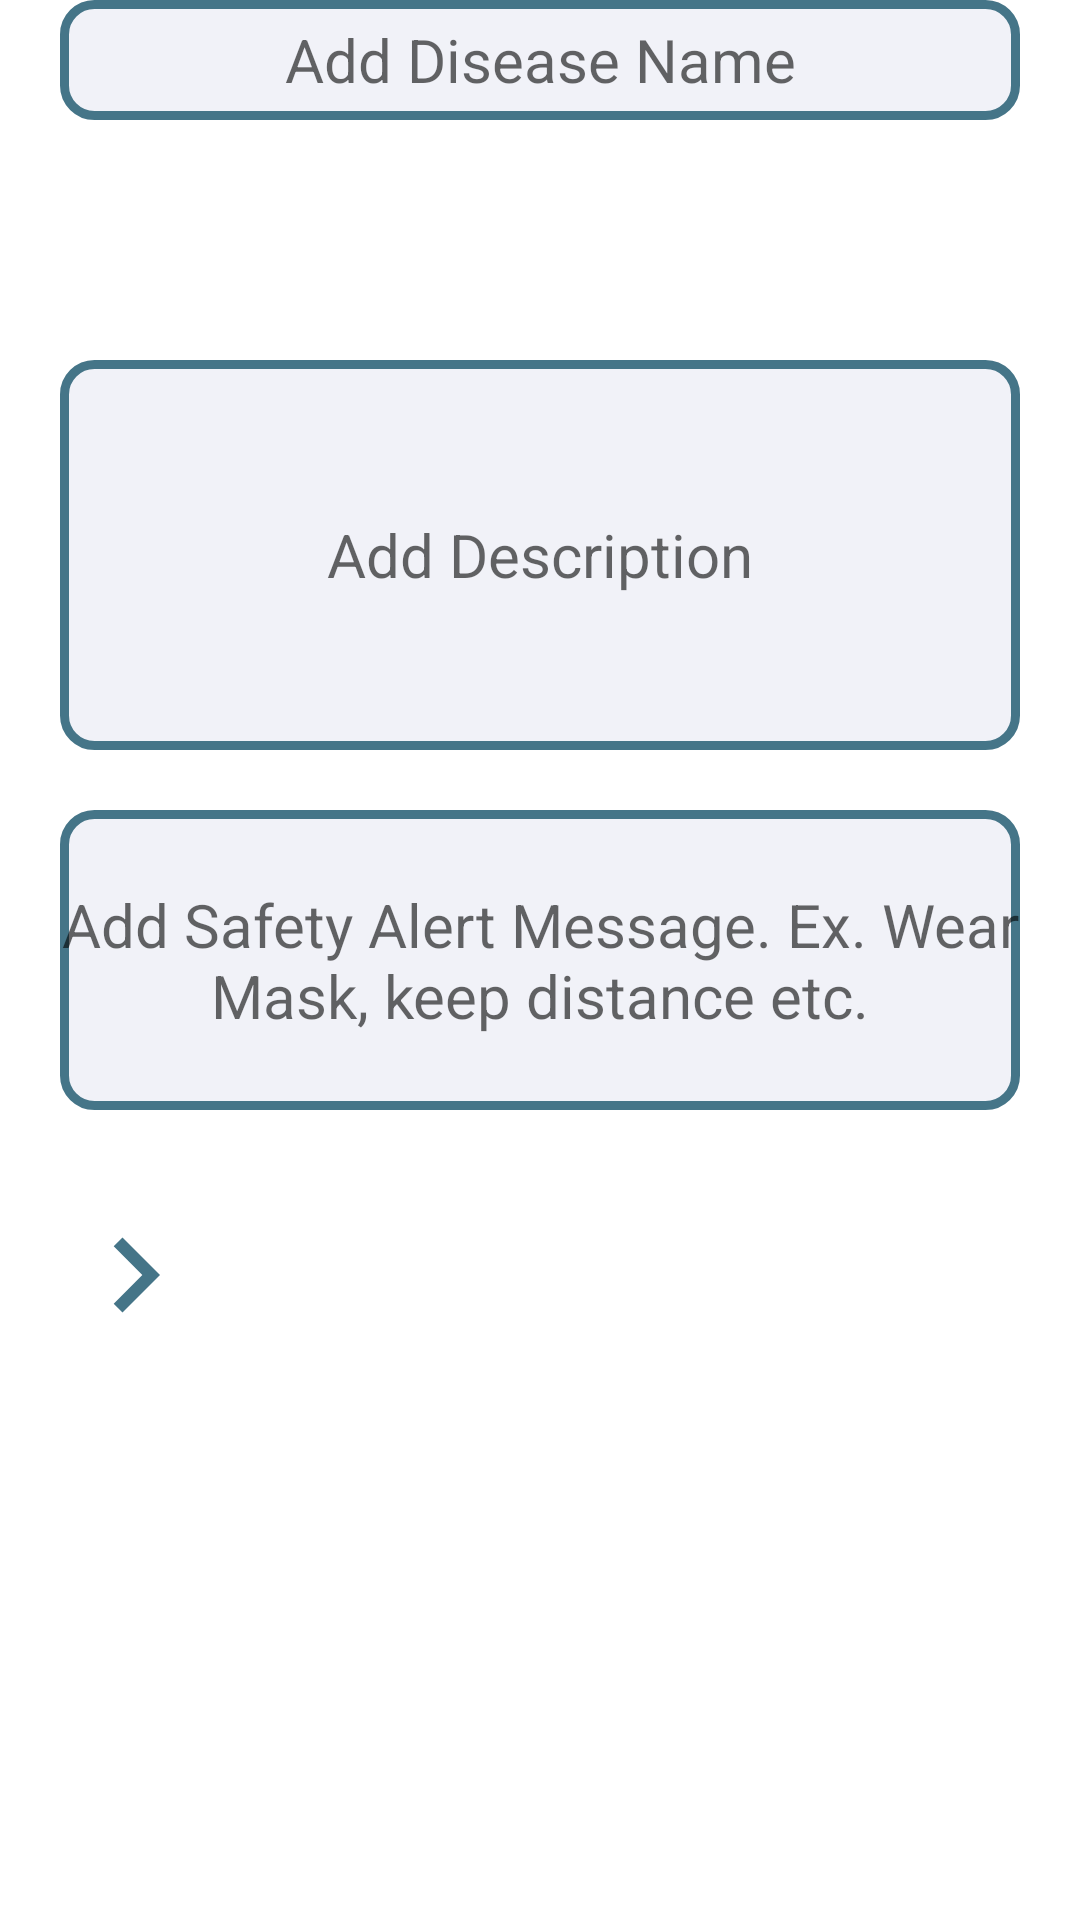

Icon click points for this 1080 x 1920 phone screenshot, format (x=x, y=y):
navigate next: (x=137, y=1275)
